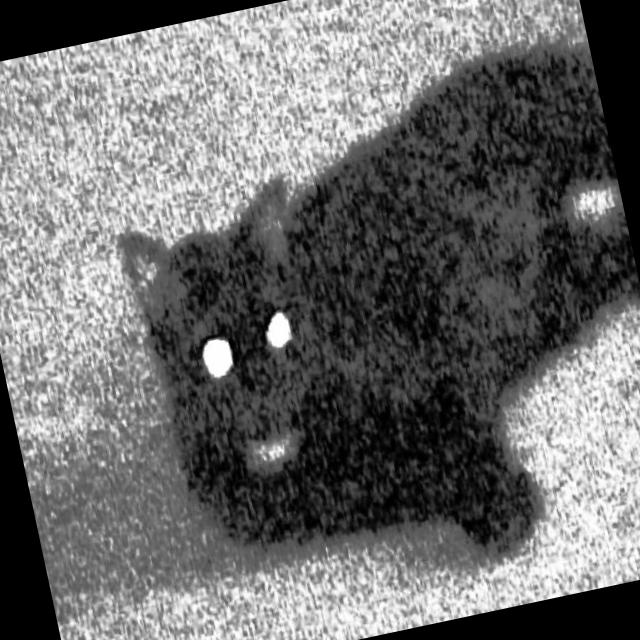Cat: (87, 26, 640, 624)
